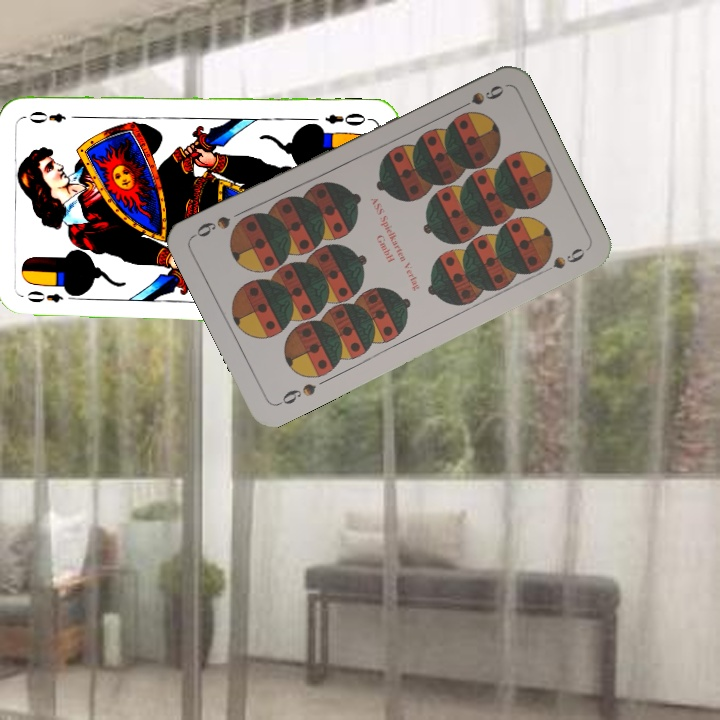EO: (23, 286, 80, 306), (321, 108, 373, 128)
S9: (451, 81, 506, 114), (273, 379, 319, 409)
